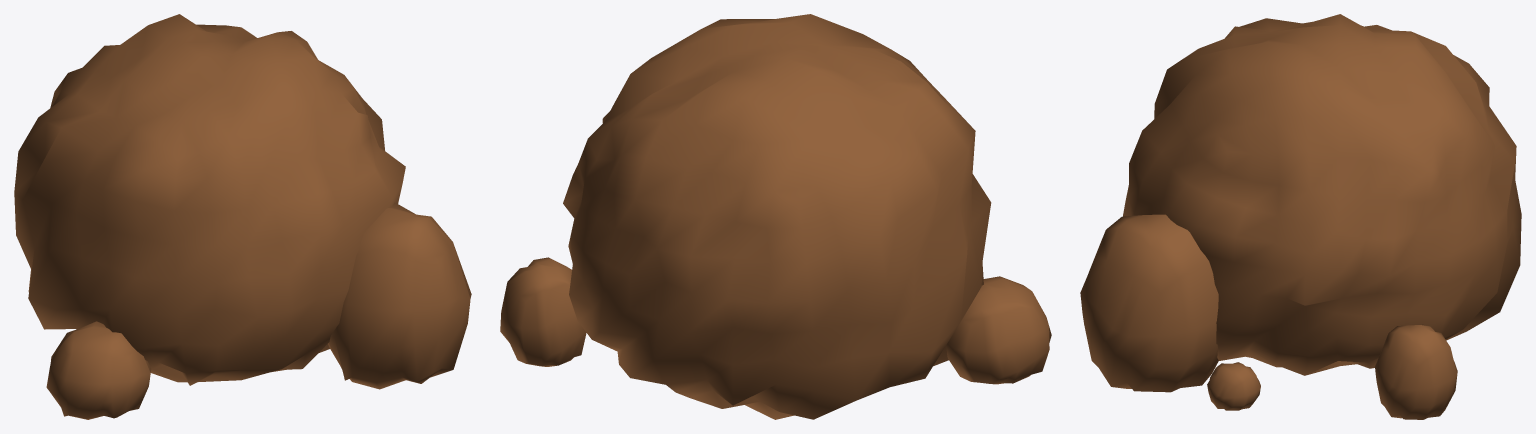
The model's file is boulder.fbx.
The picture shows the model from 3 angles, left to right: view 1: azimuth 30°, elevation 25°; view 2: azimuth 150°, elevation 25°; view 3: azimuth 270°, elevation 25°; orthographic projection. The views are drawn at different scales.
Visible parts, largest first — view 1: group2; view 2: group2; view 3: group2.
Boxes of the visible parts, x1=… form: group2: x1=14, y1=14, x2=471, y2=419; group2: x1=500, y1=14, x2=1051, y2=419; group2: x1=1080, y1=14, x2=1521, y2=419.
Bounding box in the file's own units: 352 × 249 × 328.
